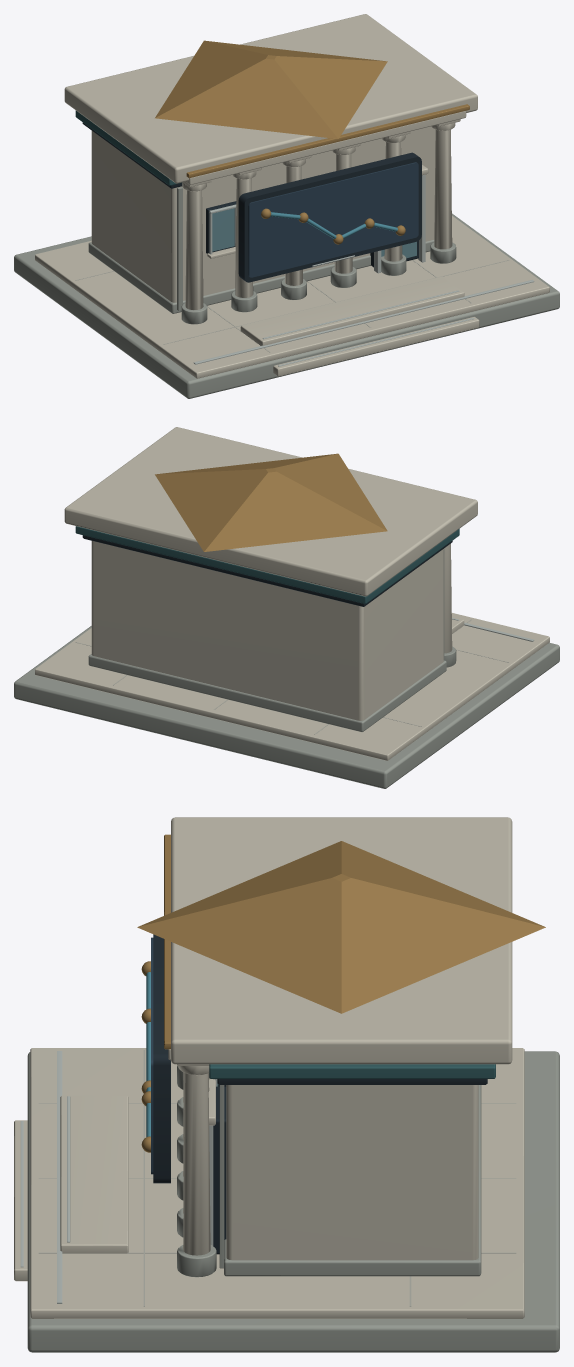
File: idea-762ec217.glb
3 renders of one model, top to bottom at view 1: azimuth 30°, elevation 25°; view 2: azimuth 150°, elevation 25°; view 3: azimuth 270°, elevation 25°, orthographic. The views are drawn at different scales.
Visible parts, largest first — view 1: GitHub for Ministers; view 2: GitHub for Ministers; view 3: GitHub for Ministers.
Boxes of the visible parts, x1,y1,x2,y2 form: GitHub for Ministers: (14,14,559,398); GitHub for Ministers: (14,427,559,788); GitHub for Ministers: (14,817,559,1352).
Size of the model in its own units: 4.8 by 2.73 by 4.
